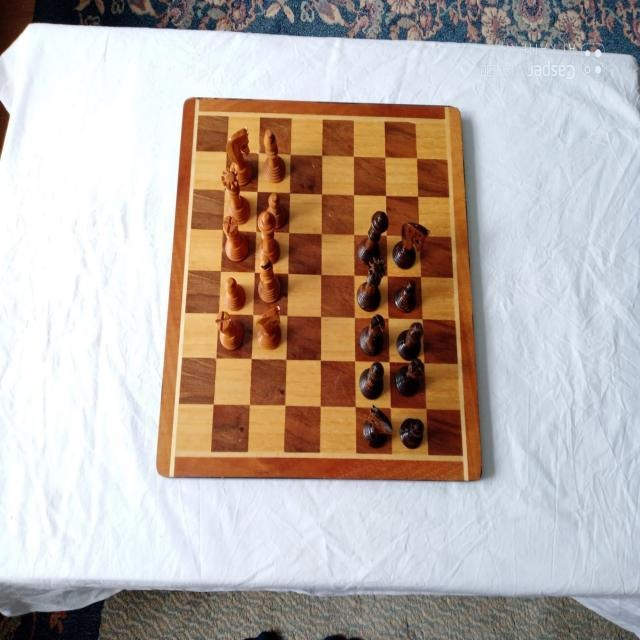black-bishop: (396, 322, 422, 360), (359, 361, 384, 399)
black-king: (358, 211, 390, 263)
black-knight: (393, 220, 431, 270), (363, 404, 393, 447)
black-pawn: (399, 416, 424, 449), (395, 280, 418, 312)
black-queen: (357, 256, 387, 312)
black-rook: (395, 357, 425, 397), (358, 313, 385, 354)
white-bishop: (262, 129, 286, 183), (258, 255, 282, 303)
white-king: (257, 211, 280, 265)
white-knight: (226, 126, 254, 186), (254, 305, 282, 349)
white-pawn: (222, 276, 246, 311), (265, 193, 286, 229)
white-queen: (222, 167, 250, 225)
white-rook: (222, 214, 249, 261), (216, 310, 244, 349)
